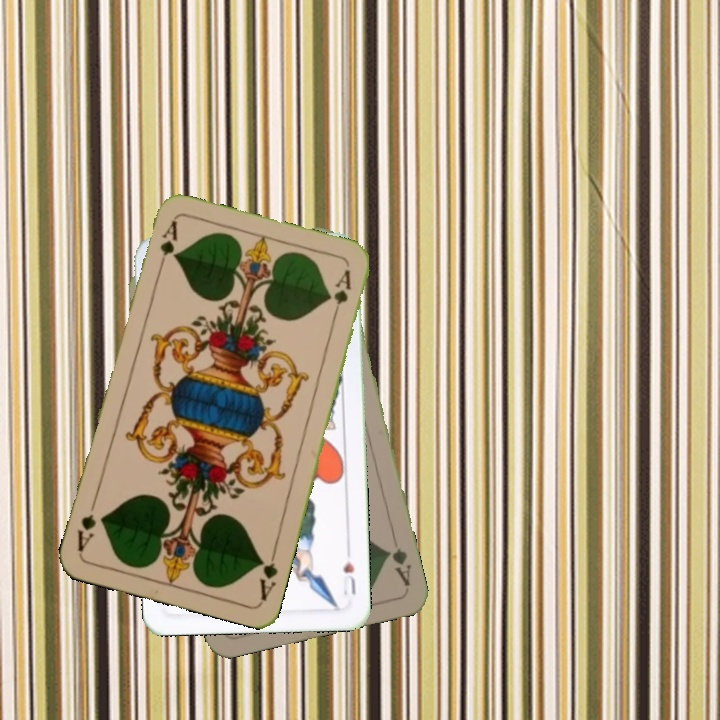GA: (153, 216, 180, 275), (255, 544, 281, 603), (382, 544, 414, 589)
HU: (339, 557, 359, 599)
